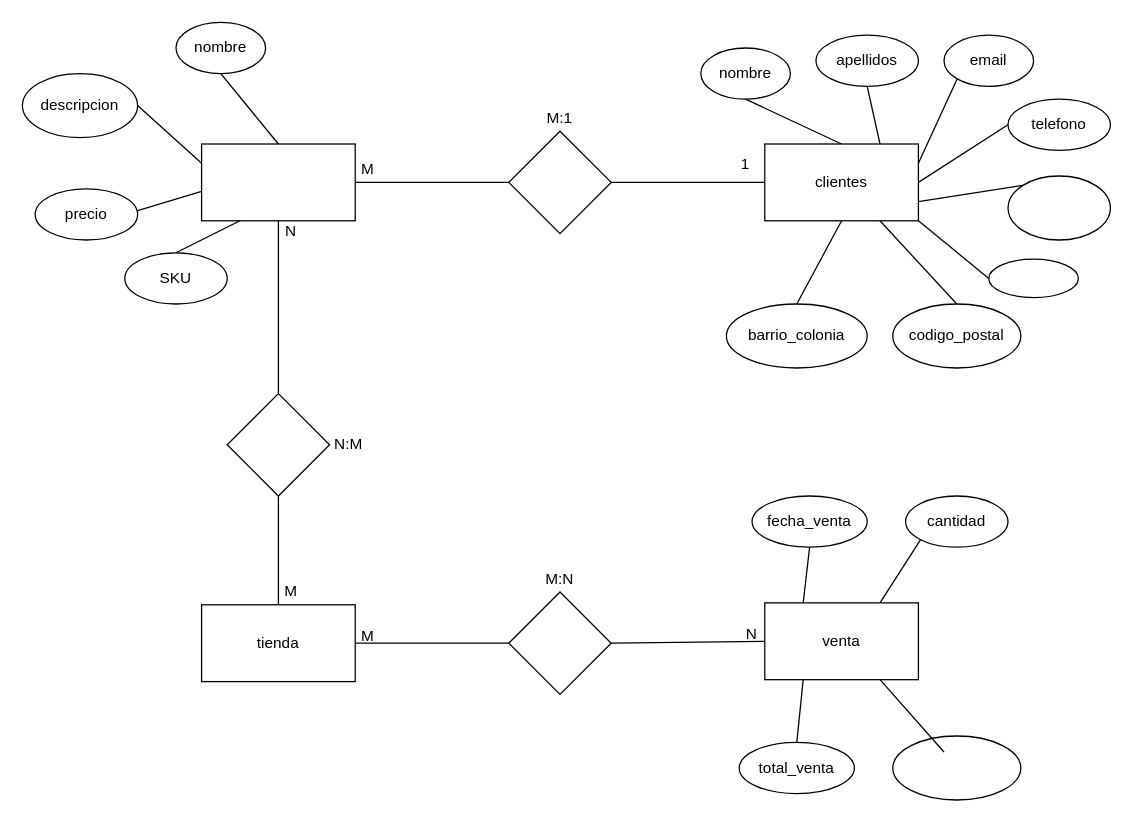
Some shapes in this 1133 by 823 pixel diagram are drawn without their labels. Each missing label, with the centre of its shape:
ciudad: [1033,278]
compra: [559,182]
direccion: [1058,207]
productos: [277,182]
registra: [559,642]
subtotal_venta: [956,767]
tiene: [278,444]
